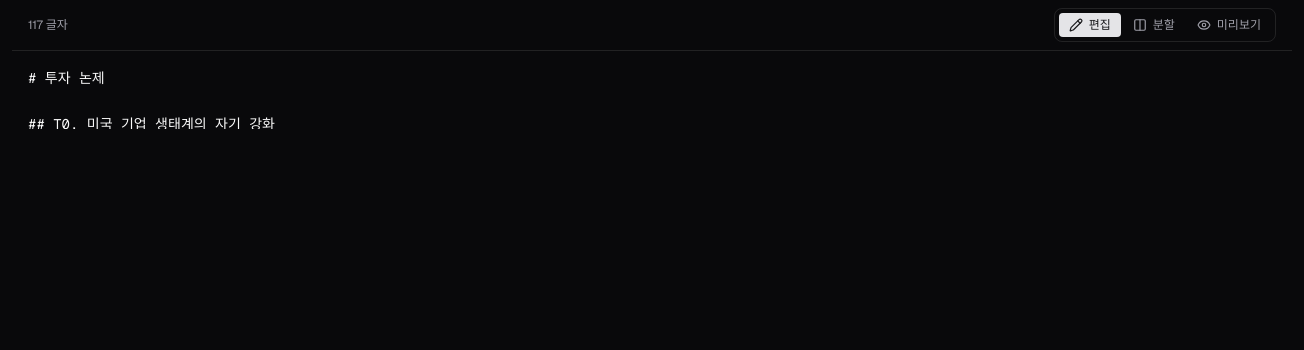
it: ThesesEditor › 뷰 모드 전환 › 미리보기 모드에서 미리보기만 표시된다
Click the button titled "미리보기" at [1229, 25], box x1=1187 y1=13 x2=1271 y2=37
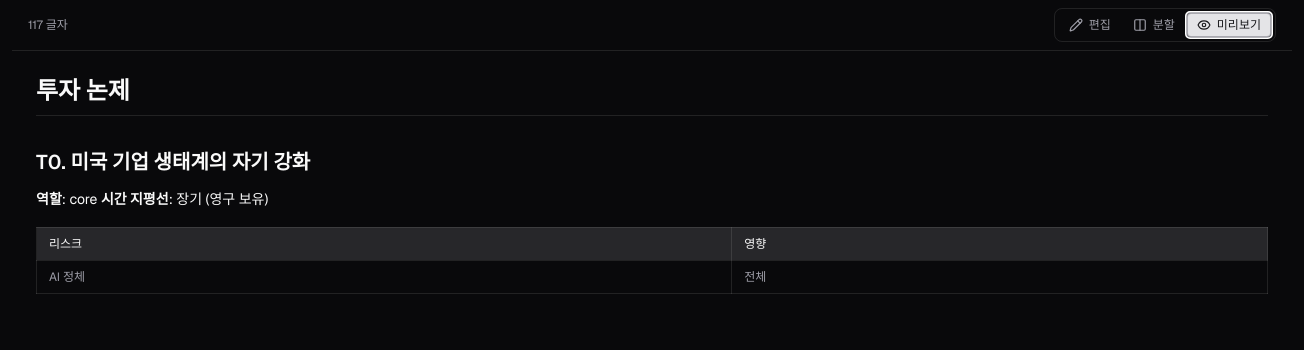
Now the text box with test id "theses-textarea" is gone
Now the element with test id "preview-pane" is shown
